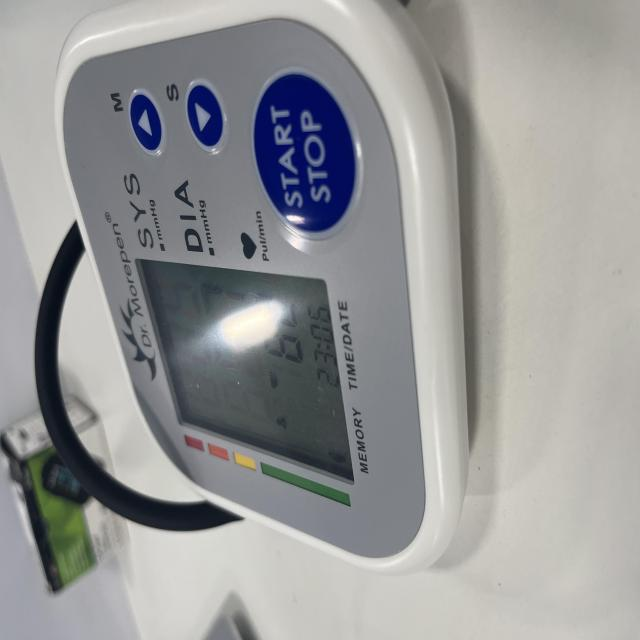bp: (49, 0, 480, 580)
